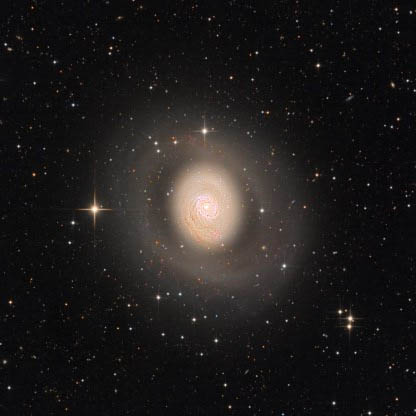Messier 94: (92, 103, 329, 324)
